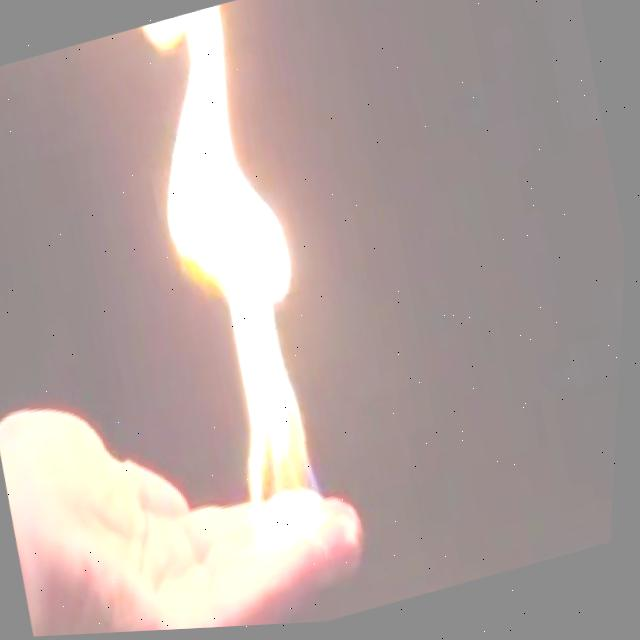Fire: (86, 0, 371, 567)
